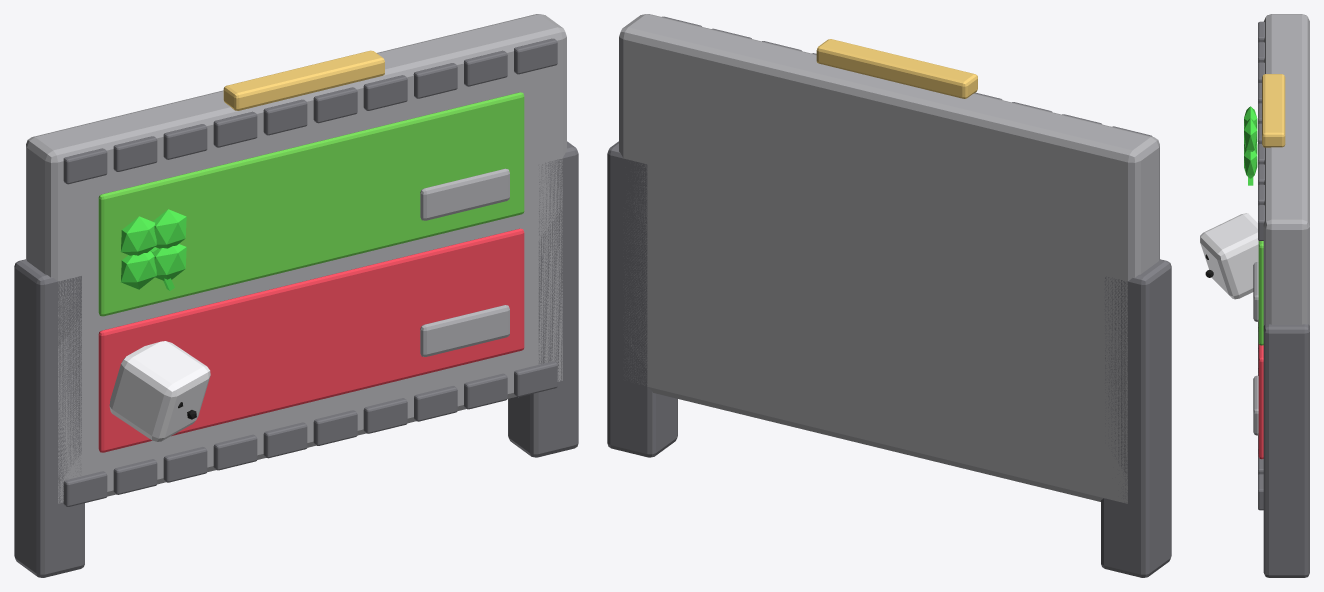
Rendered from puesto_mejoras.glb.
3 views of the same model, side by side, from view 1: azimuth 30°, elevation 25°; view 2: azimuth 150°, elevation 25°; view 3: azimuth 270°, elevation 25° (orthographic). The views are drawn at different scales.
Parts seen in each view (by area): view 1: Marco, Panel_Suerte, Panel_Giros, Iconos; view 2: Marco; view 3: Marco, Iconos, Panel_Giros, Panel_Suerte.
Boxes of the visible parts, x1=… form: Marco: x1=14, y1=14, x2=578, y2=577; Panel_Suerte: x1=98, y1=92, x2=524, y2=316; Panel_Giros: x1=98, y1=228, x2=524, y2=452; Iconos: x1=109, y1=168, x2=509, y2=441; Marco: x1=607, y1=14, x2=1171, y2=577; Marco: x1=1258, y1=14, x2=1309, y2=577; Iconos: x1=1200, y1=106, x2=1258, y2=435; Panel_Giros: x1=1258, y1=343, x2=1263, y2=459; Panel_Suerte: x1=1258, y1=241, x2=1263, y2=345.
Bounding box in the file's own units: 7.9 × 6.12 × 1.67.
Materials: 1 (1 with a texture image).
